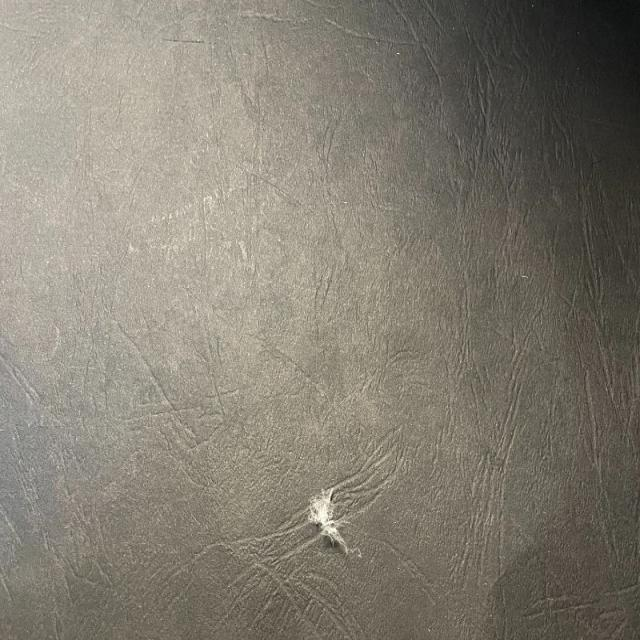feather: (306, 482, 356, 556)
